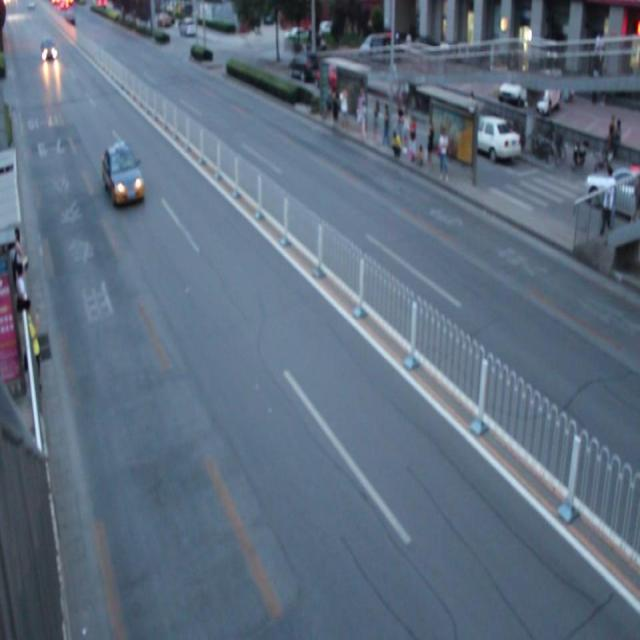car: (101, 142, 146, 209)
